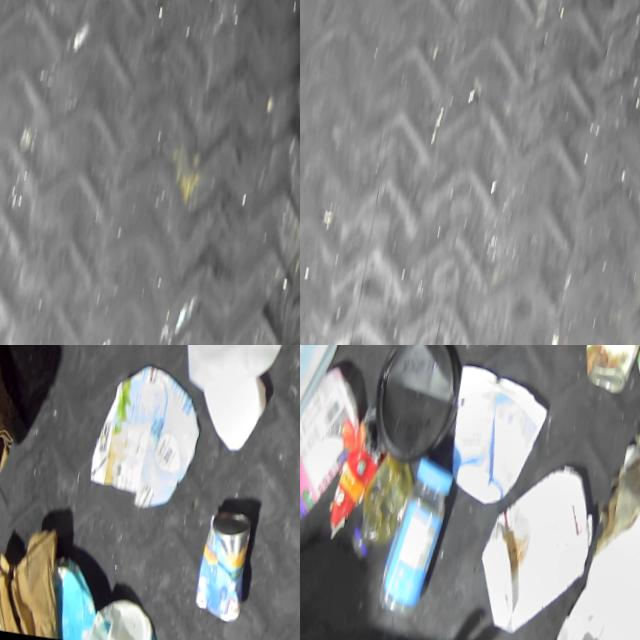can: (191, 505, 262, 622), (577, 345, 640, 405)
milk_jug: (467, 451, 609, 640), (300, 345, 363, 483), (163, 345, 300, 402), (78, 592, 168, 640)
non_white_jug: (47, 557, 108, 640)
